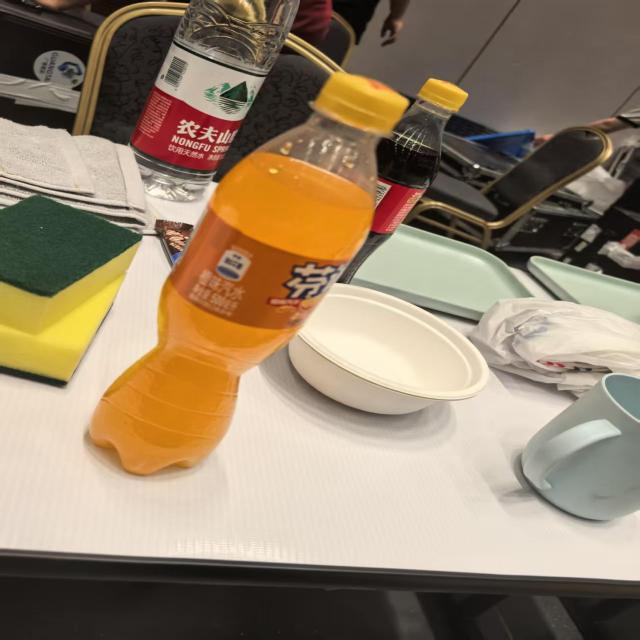orange: (270, 256, 350, 320)
